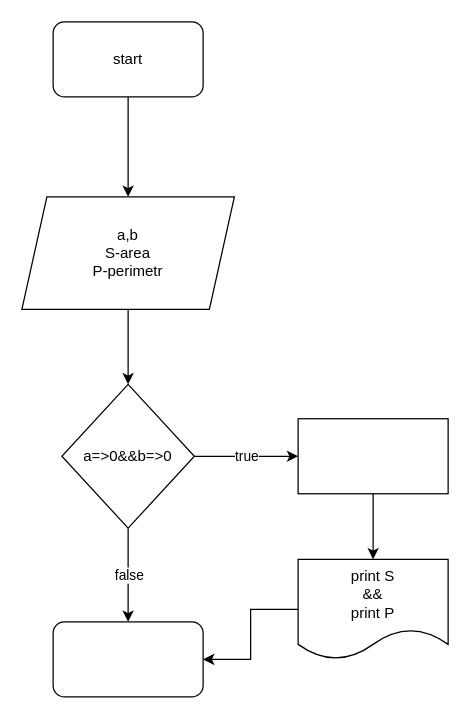
Image size: 470x719. Some labels were removed from this diagram. Here are the shapes that lost their labels. From the top down, the box of each, then its label:
(297, 418, 448, 494): P=2*(a+b) && S=a*b
(52, 621, 203, 697): end
